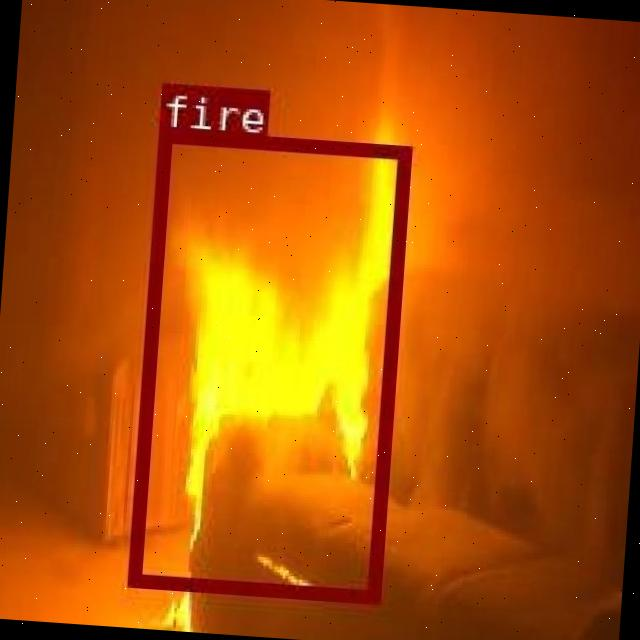fire: (126, 126, 407, 600)
